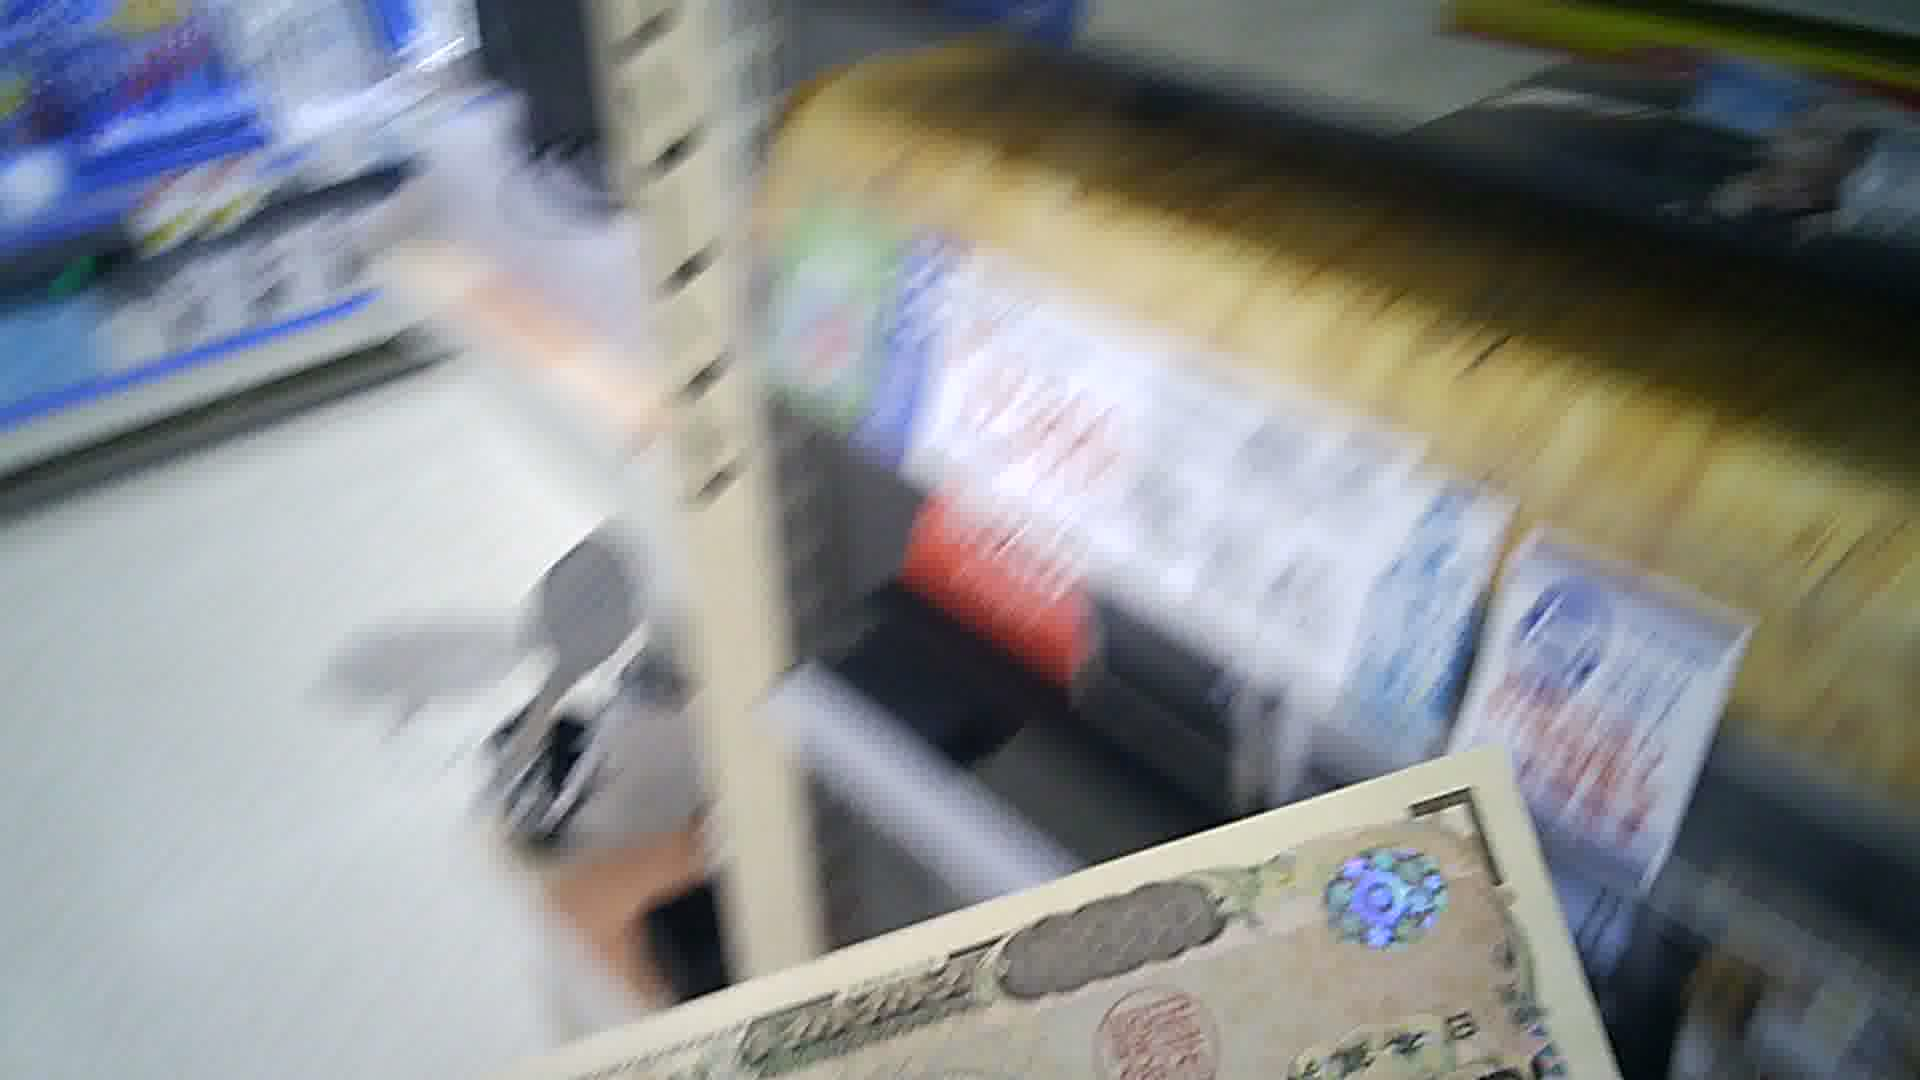10,000 Yen: (634, 767, 1600, 1079)
